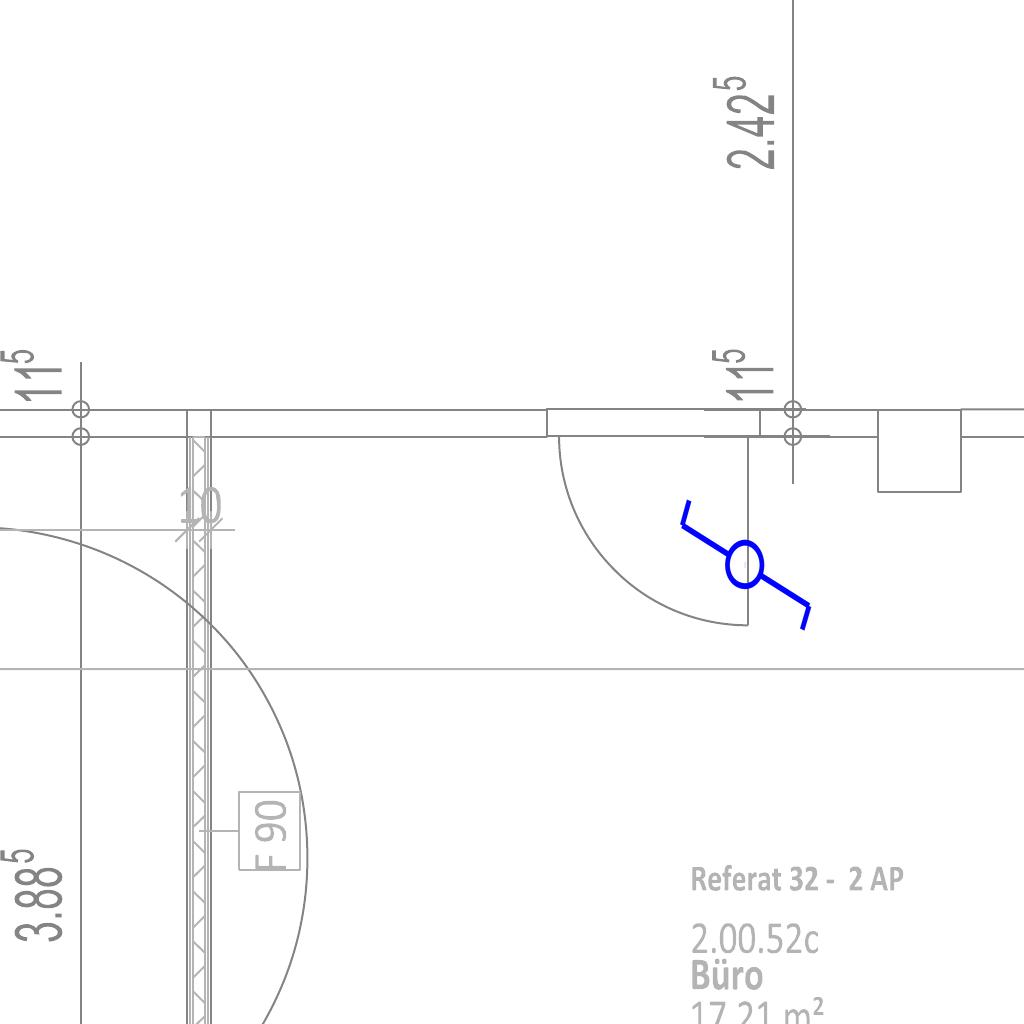Wechselschalter: (675, 478, 819, 635)
